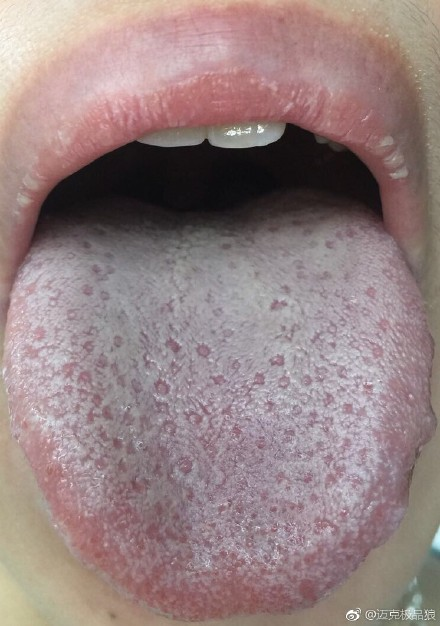baitaishe: (3, 187, 439, 622)
hongdianshe: (77, 268, 370, 517)
